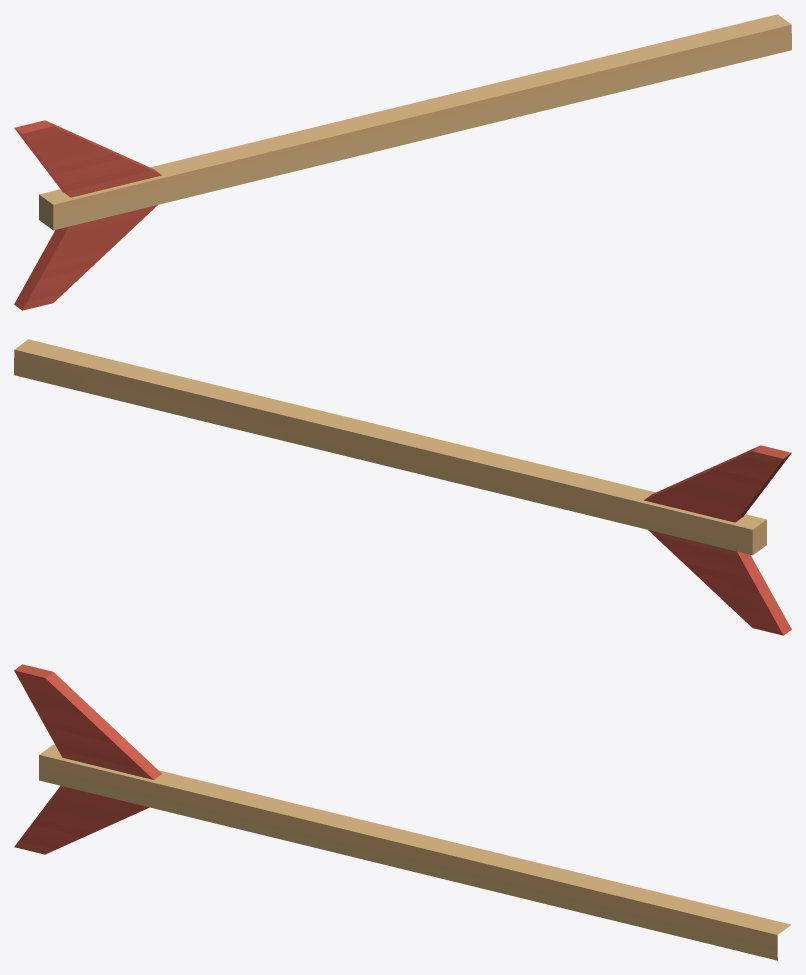
Rendered from arrowIn.glb.
3 renders of one model, top to bottom at view 1: azimuth 30°, elevation 25°; view 2: azimuth 150°, elevation 25°; view 3: azimuth 330°, elevation 25°, orthographic.
Visible parts, largest first — view 1: ARROW_Cube.033; view 2: ARROW_Cube.033; view 3: ARROW_Cube.033.
Part boxes in pixels (<box>): ARROW_Cube.033: <box>14,14,791,310</box>; ARROW_Cube.033: <box>14,339,791,635</box>; ARROW_Cube.033: <box>14,664,791,960</box>.
Bounding box in the file's own units: 1.08 × 0.2381 × 0.0345.
1 material, 1 textured.
